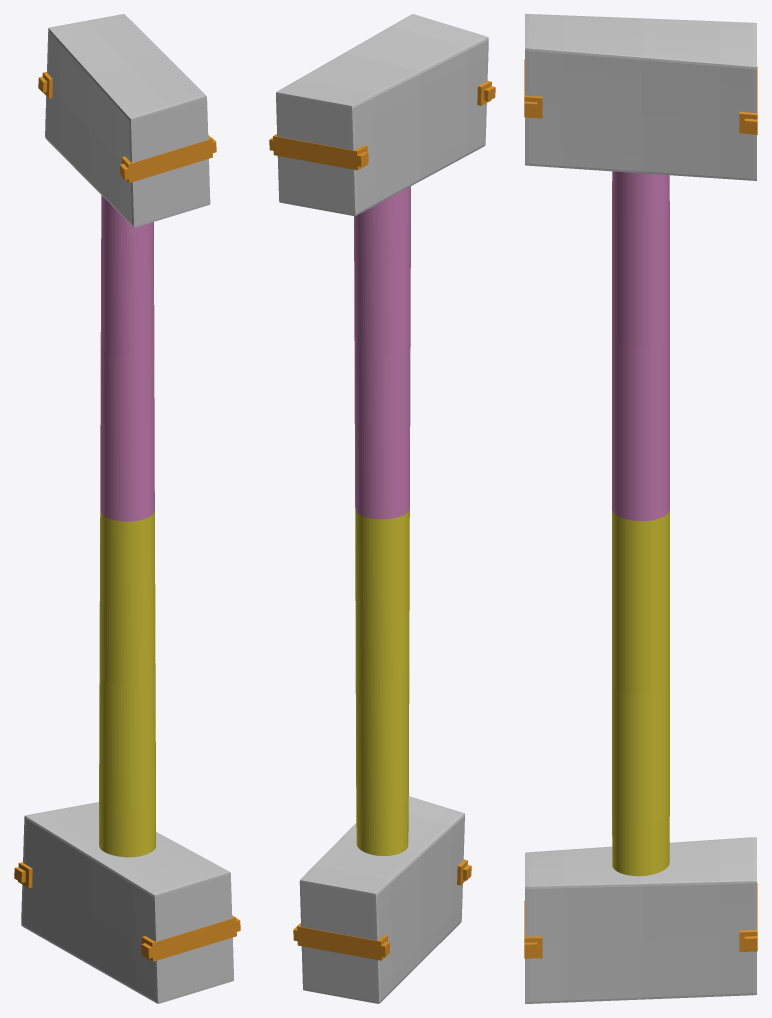
3 renders of one model, left to right at view 1: azimuth 30°, elevation 25°; view 2: azimuth 150°, elevation 25°; view 3: azimuth 270°, elevation 25°, orthographic. The views are drawn at different scales.
Parts seen in each view (by area): view 1: Cube.001; view 2: Cube.001; view 3: Cube.001.
Part boxes in pixels (x1,y1,x2,y2): Cube.001: [14, 14, 240, 1003]; Cube.001: [269, 14, 495, 1003]; Cube.001: [524, 14, 757, 1003].
Bounding box in the file's own units: 0.5997 × 4.42 × 0.987.
